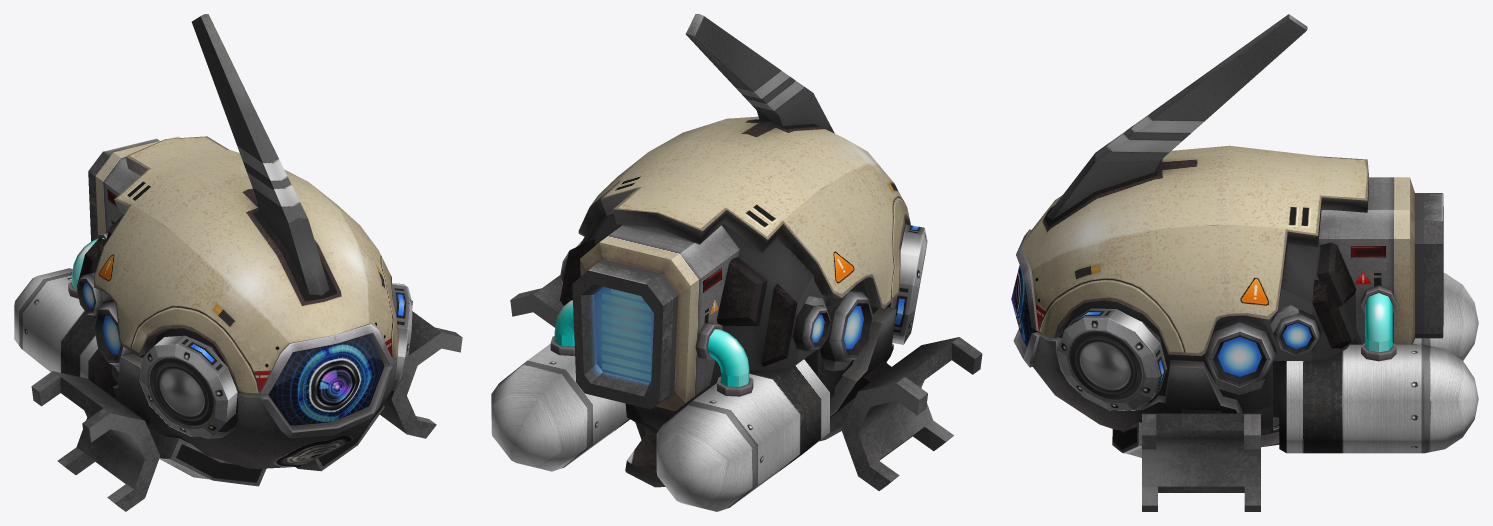
The model's file is drone03_body.FBX.
3 views of the same model, side by side, from view 1: azimuth 30°, elevation 25°; view 2: azimuth 150°, elevation 25°; view 3: azimuth 270°, elevation 25° (orthographic). The views are drawn at different scales.
Parts seen in each view (by area): view 1: drone03_body; view 2: drone03_body; view 3: drone03_body.
Part boxes in pixels (x1,y1,x2,y2): drone03_body: (14, 14, 462, 511); drone03_body: (491, 14, 982, 511); drone03_body: (1011, 14, 1478, 511).
Bounding box in the file's own units: 1.6 × 1.71 × 1.69.
